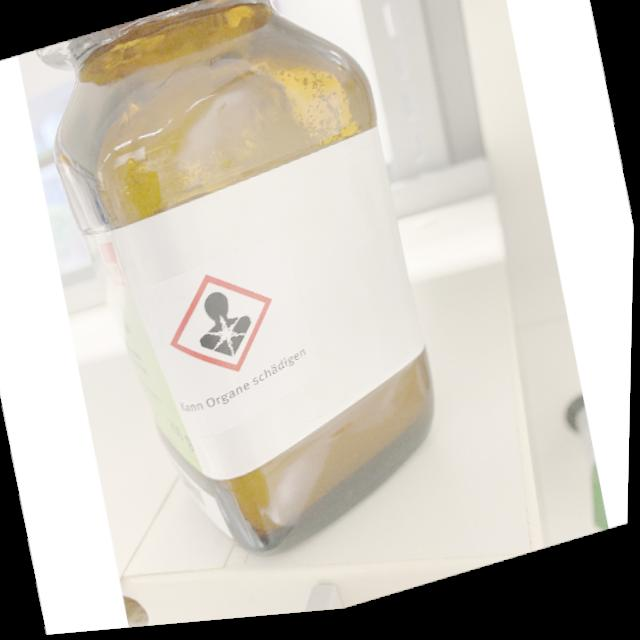serious health hazard: (191, 287, 259, 369)
